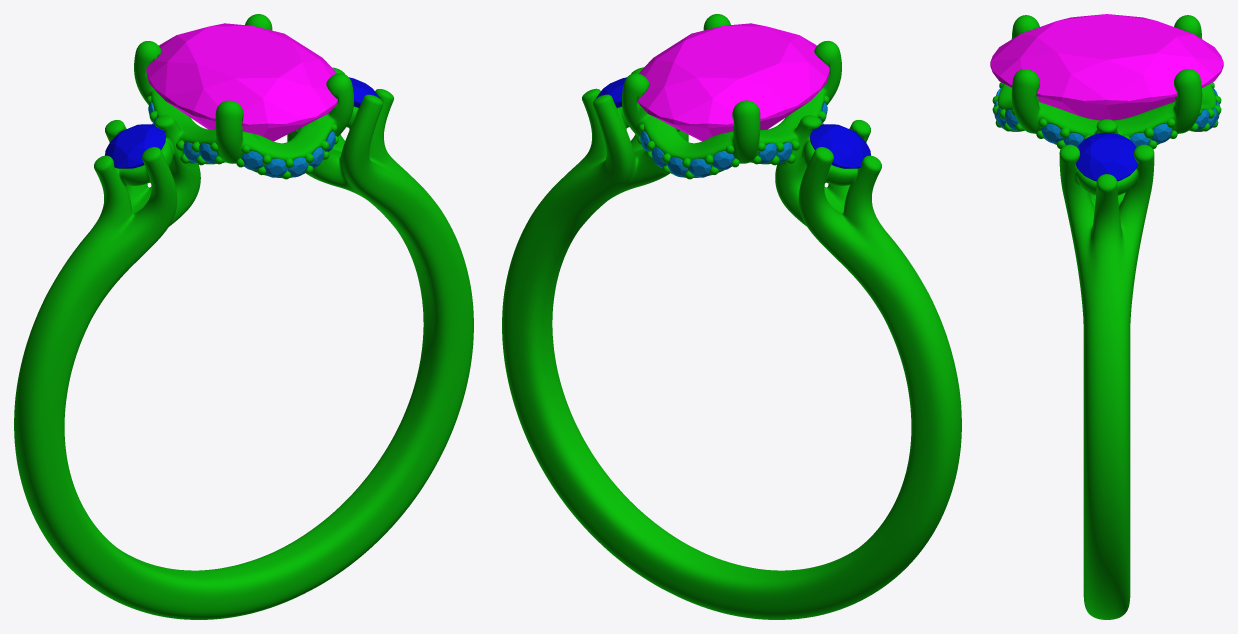
File: BE1D122_OV_200ct_RENDER.glb
3 views of the same model, side by side, from view 1: azimuth 30°, elevation 25°; view 2: azimuth 150°, elevation 25°; view 3: azimuth 270°, elevation 25° (orthographic).
Parts seen in each view (by area): view 1: Metal 01, CS_Diamond_Oval, Diamond_Round_side; view 2: Metal 01, CS_Diamond_Oval, Diamond_Round_side; view 3: Metal 01, CS_Diamond_Oval, Diamond_Round_side.001.
Boxes of the visible parts, x1,y1,x2,y2 form: Metal 01: (14,14,473,619); CS_Diamond_Oval: (146,23,337,141); Diamond_Round_side: (105,124,165,168); Metal 01: (502,14,961,619); CS_Diamond_Oval: (638,23,829,141); Diamond_Round_side: (810,124,870,168); Metal 01: (992,15,1221,619); CS_Diamond_Oval: (990,14,1223,120); Diamond_Round_side.001: (1075,133,1138,181).
Size of the model in its own units: 20.11 by 23.8 by 9.
